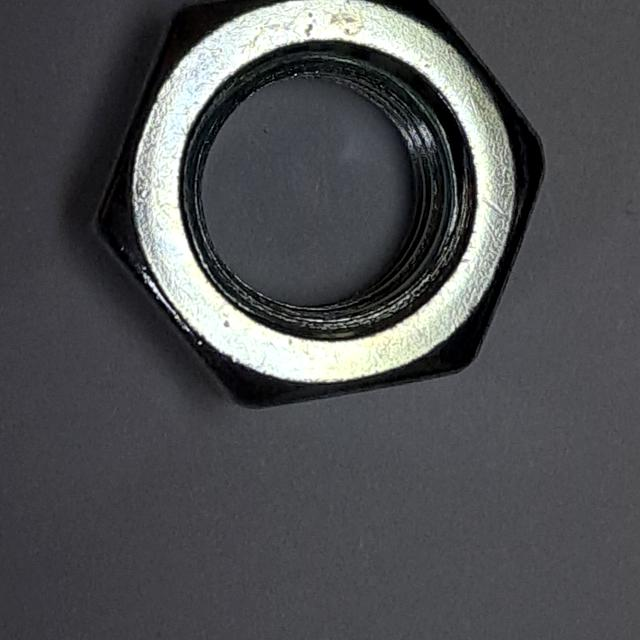Excellent: (72, 1, 561, 427)
